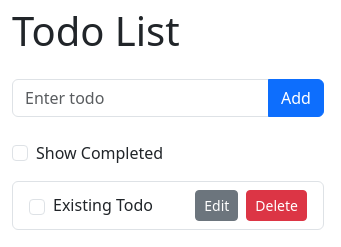
Test case: Todo App Integration Tests › toggles todo completion when "Show completed" is unchecked
The width and height of the screenshot is (341, 247).
Expected: the text "Existing Todo" is shown, [53, 193, 153, 217]
Click the checkbox with test id "todo-checkbox-1" at x=37, y=207, box [29, 199, 45, 215]
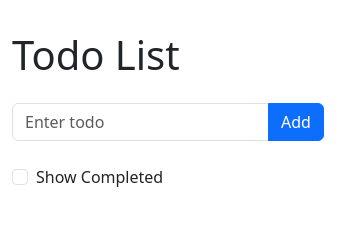
Now the text "Existing Todo" is gone
